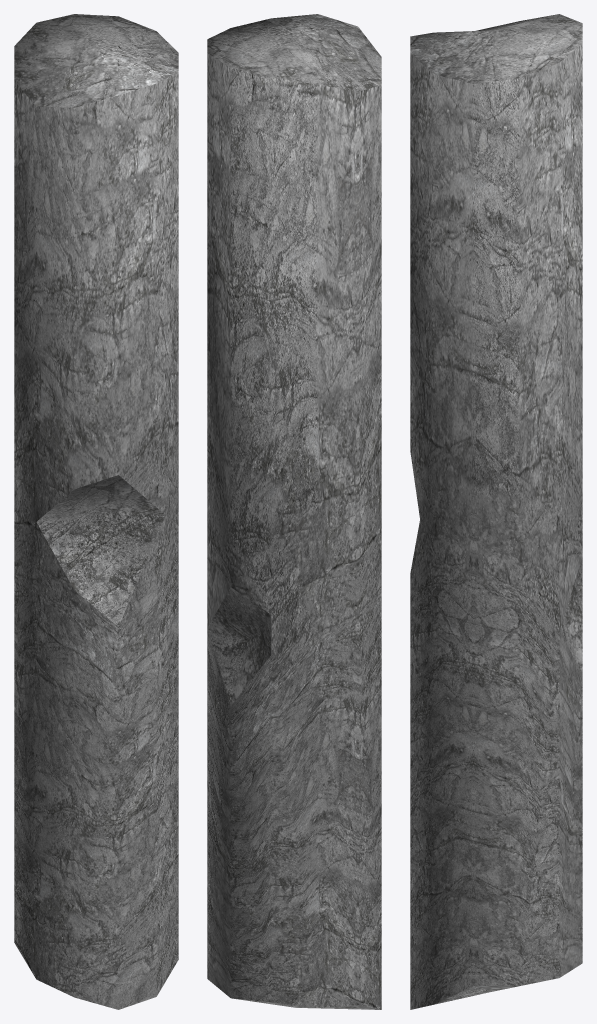
File: materials_3_rubble_14.fbx
3 views of the same model, side by side, from view 1: azimuth 30°, elevation 25°; view 2: azimuth 150°, elevation 25°; view 3: azimuth 270°, elevation 25° (orthographic). The views are drawn at different scales.
Parts seen in each view (by area): view 1: materials_3_rubble_14; view 2: materials_3_rubble_14; view 3: materials_3_rubble_14.
Part boxes in pixels (x1=…): materials_3_rubble_14: x1=14, y1=14, x2=178, y2=1009; materials_3_rubble_14: x1=207, y1=14, x2=381, y2=1009; materials_3_rubble_14: x1=410, y1=14, x2=582, y2=1009.
Size of the model in its own units: 28.07 by 175 by 28.07.
